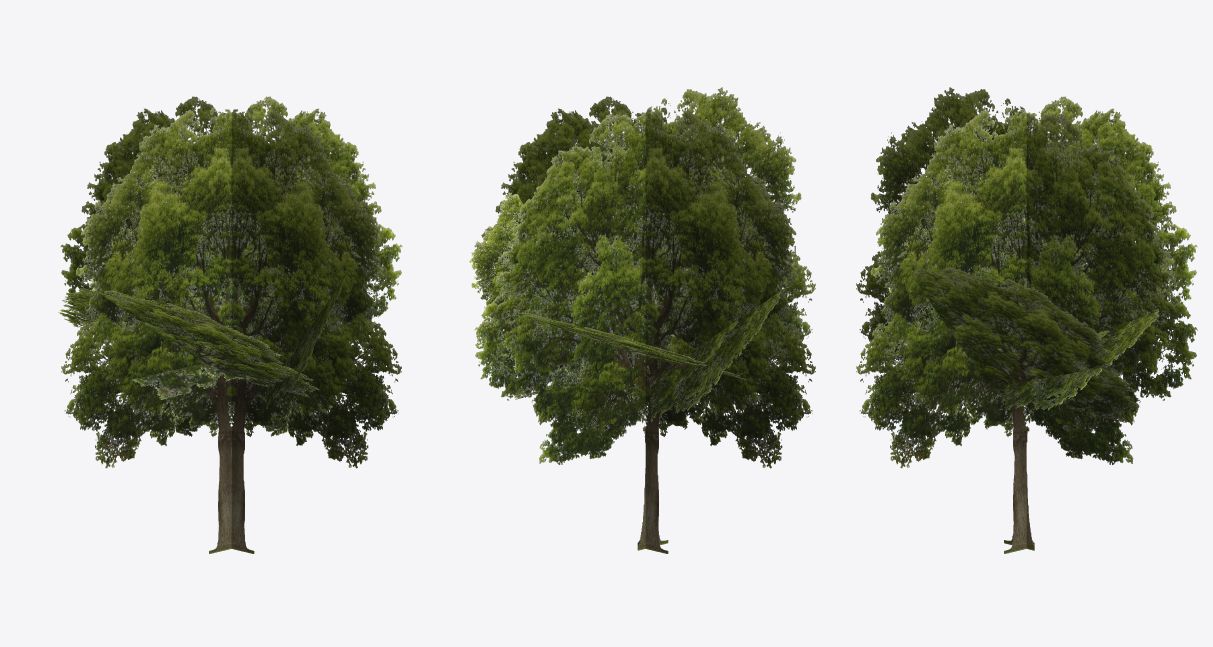
Rendered from oak.glb.
The picture shows the model from 3 angles, left to right: view 1: azimuth 30°, elevation 25°; view 2: azimuth 150°, elevation 25°; view 3: azimuth 270°, elevation 25°; orthographic projection.
Visible parts, largest first — view 1: Plane_002, Plane, Plane_004, Plane_003, Plane_005; view 2: Plane_001, Plane, Plane_004, Plane_005, Plane_003; view 3: Plane_002, Plane_001, Plane_005, Plane_003.
Part boxes in pixels (box(x1,y1,x2,y2)): Plane_002: box(60, 96, 401, 553); Plane: box(61, 96, 402, 553); Plane_004: box(58, 288, 319, 397); Plane_003: box(89, 219, 341, 399); Plane_005: box(266, 194, 363, 408); Plane_001: box(474, 87, 815, 550); Plane: box(475, 96, 815, 553); Plane_004: box(649, 236, 795, 421); Plane_005: box(469, 188, 686, 399); Plane_003: box(490, 311, 748, 380); Plane_002: box(856, 96, 1197, 553); Plane_001: box(856, 87, 1197, 550); Plane_005: box(883, 267, 1139, 422); Plane_003: box(1004, 250, 1176, 413).
Size of the model in its own units: 13.23 by 16 by 11.35.
Materials: 2 (2 with a texture image).
